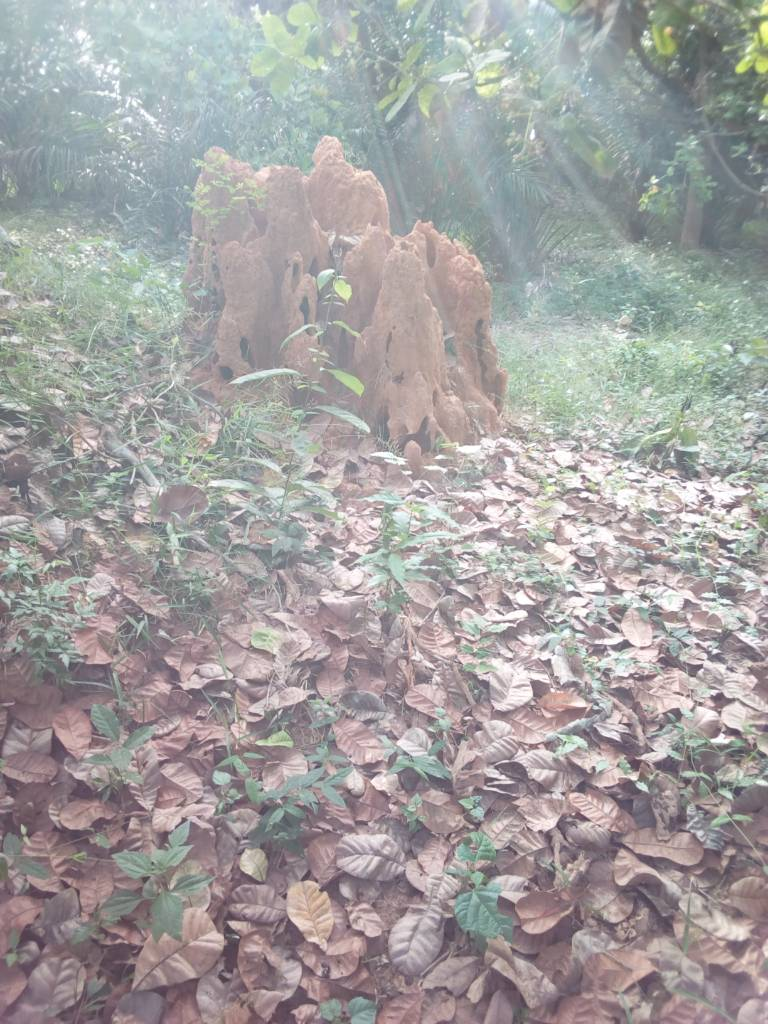Termites: (193, 157, 491, 433)
